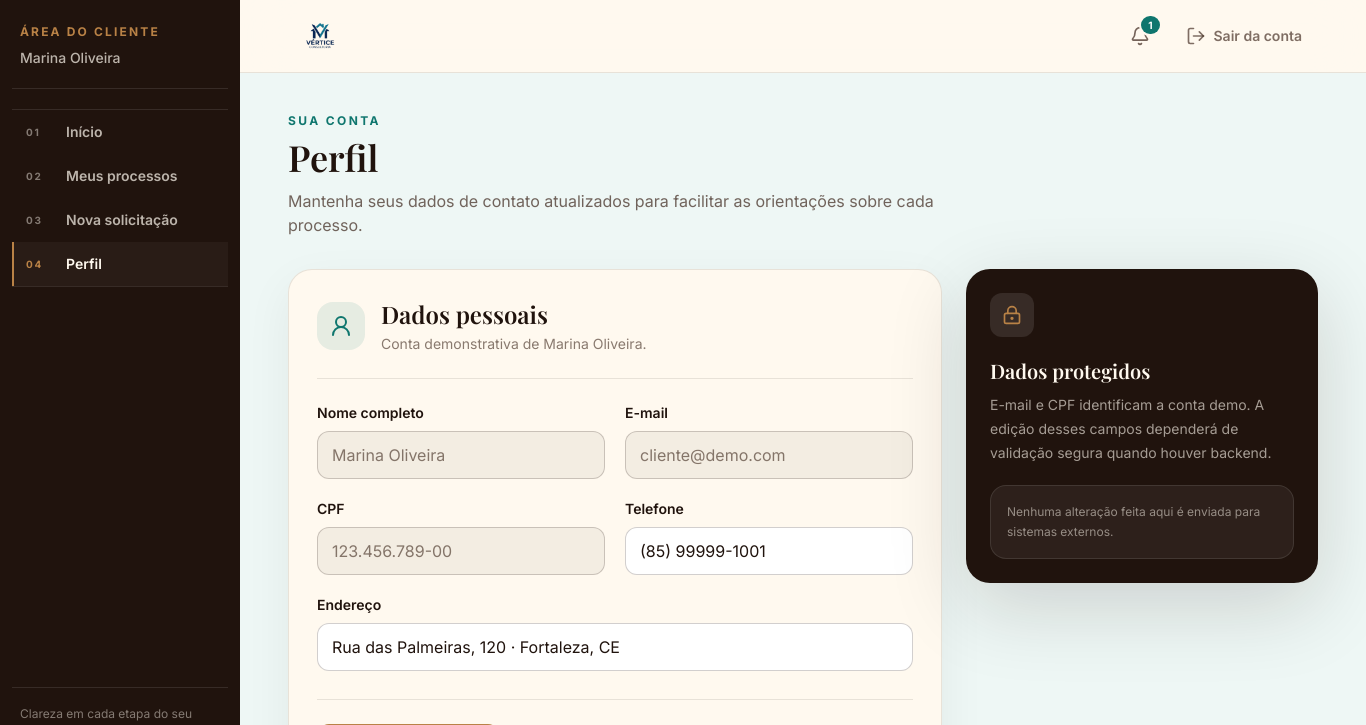
Test: ClientPortal › atualiza telefone e endereço sem liberar e-mail e CPF
Check: the field labelled "E-mail" is disabled, box [625, 431, 913, 479]
Check: the field labelled "CPF" is disabled, box [317, 527, 605, 575]
Replace the text in the field labelled "Telefone" with "(85) 98888-7777": (769, 551) [625, 527, 913, 575]
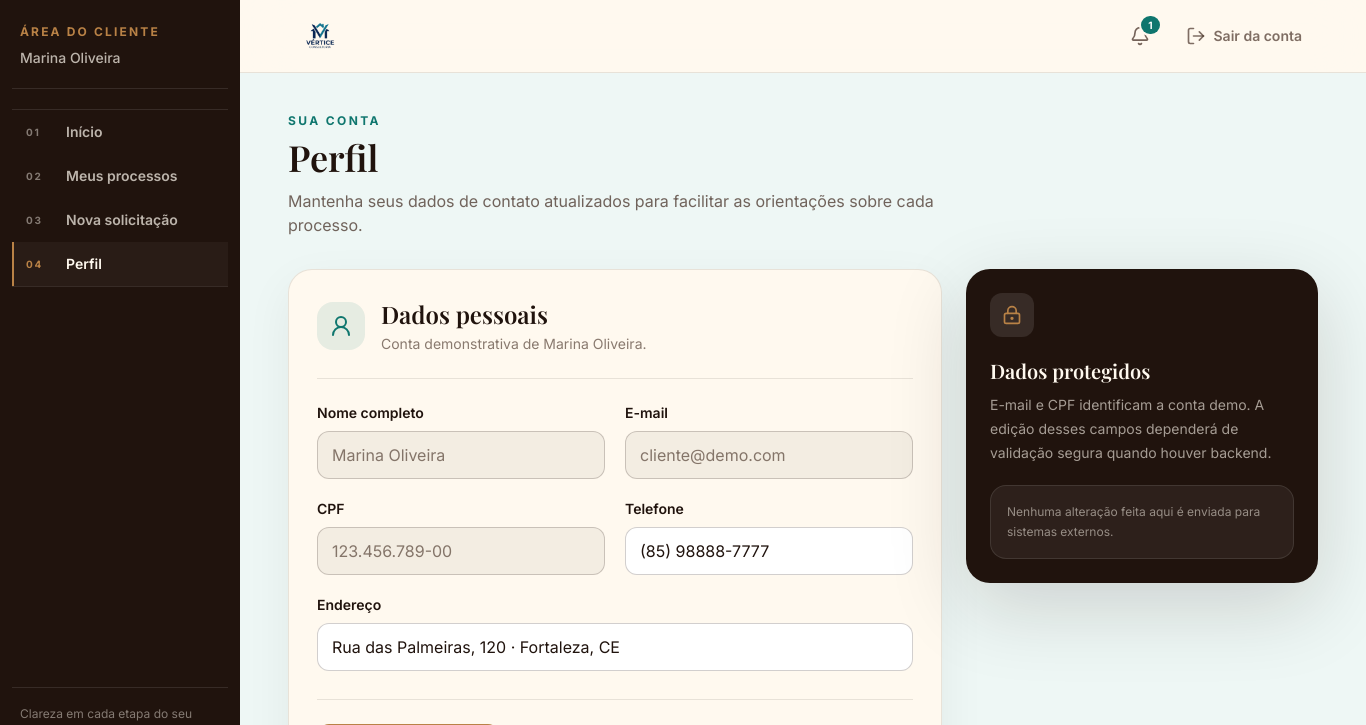
Replace the text in the field labelled "Endereço" with "Rua Nova, 45 · Fortaleza, CE": (615, 647) [317, 623, 913, 671]
(page scrolled)
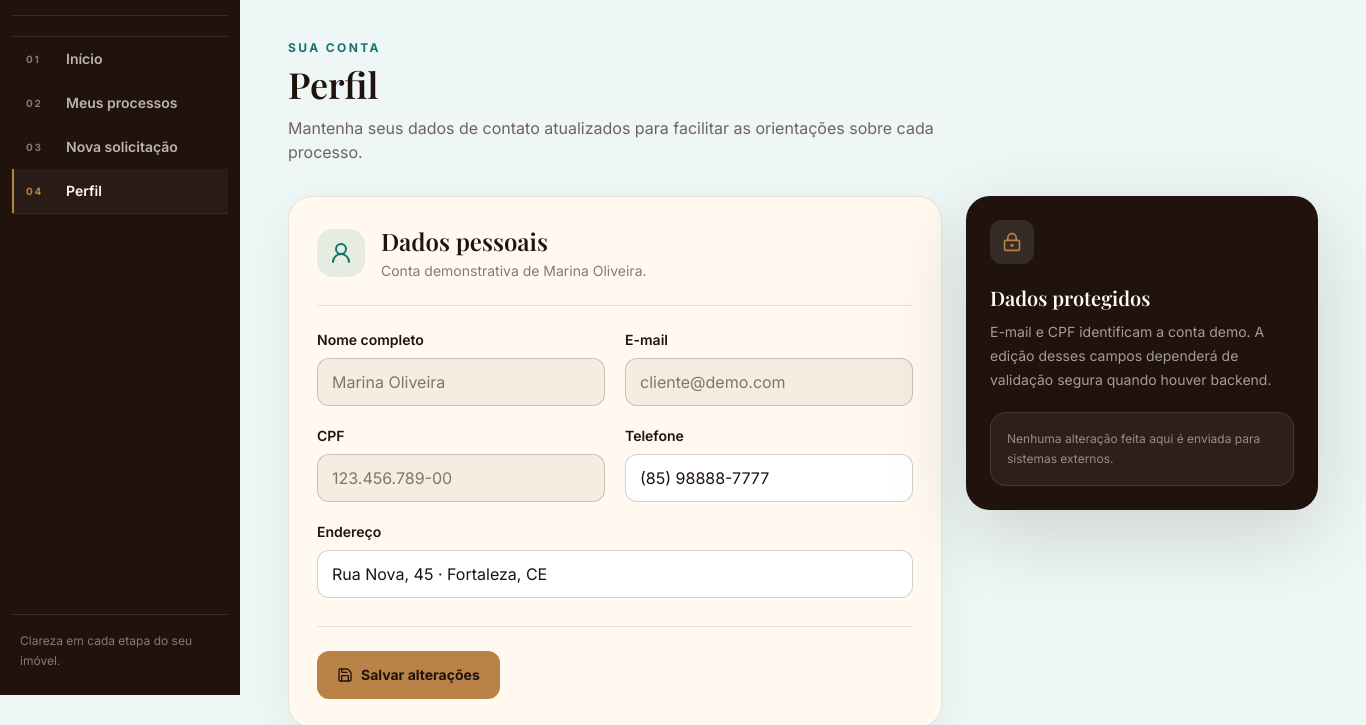
Click the button "Salvar alterações": (408, 675) [317, 651, 500, 699]
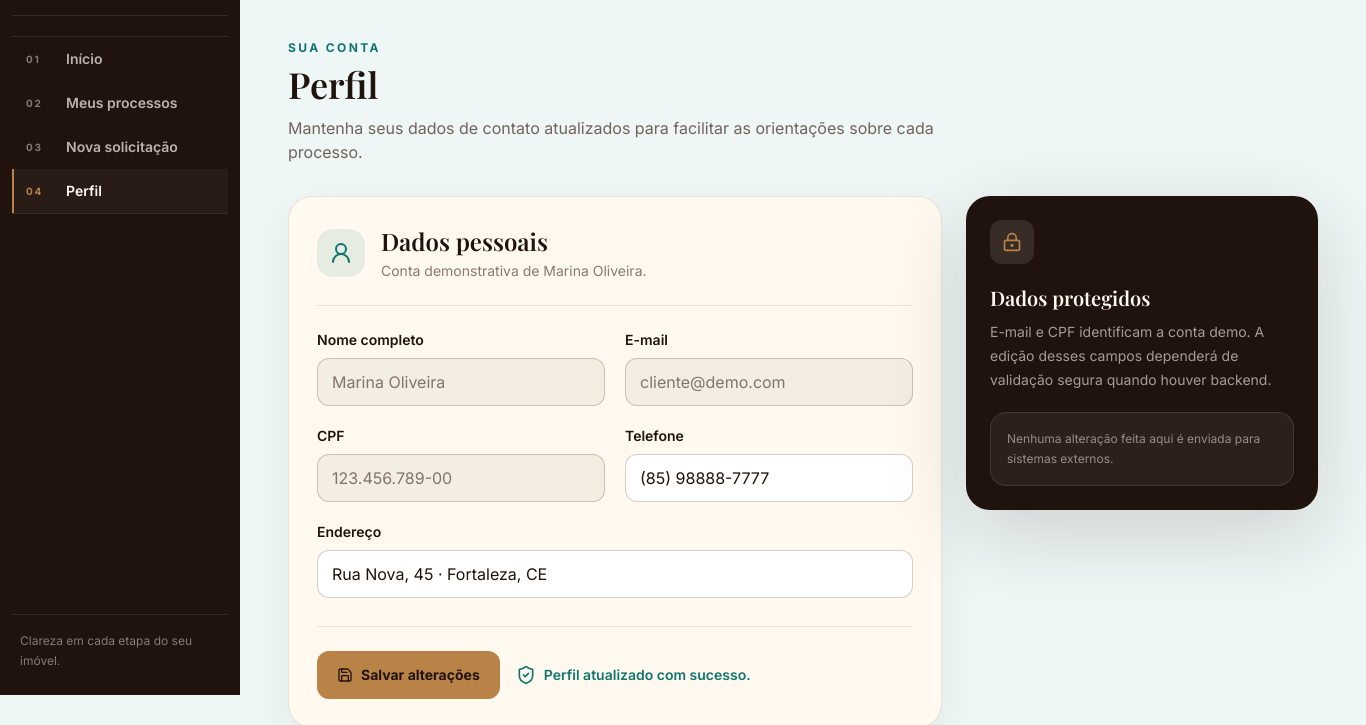
Check: the message shows "Perfil atualizado", box [544, 666, 751, 683]
